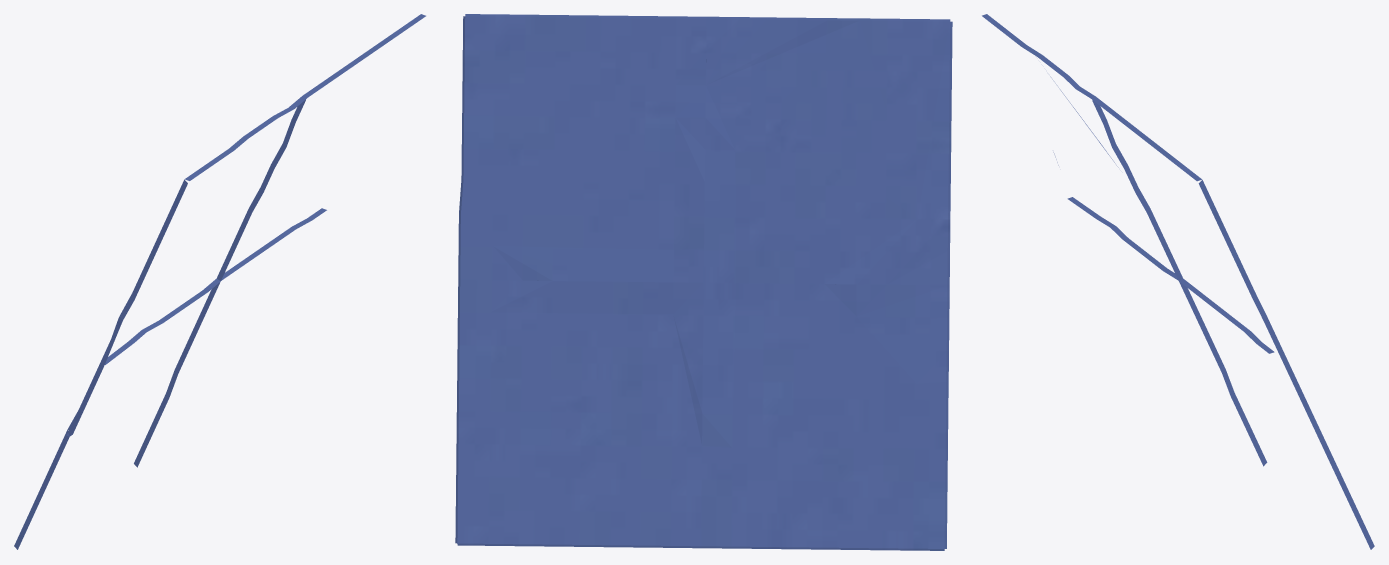
3 views of the same model, side by side, from view 1: azimuth 30°, elevation 25°; view 2: azimuth 150°, elevation 25°; view 3: azimuth 270°, elevation 25° (orthographic). The views are drawn at different scales.
Size of the model in its own units: 78834 by 72363 by 63103.
1 material, 1 textured.
